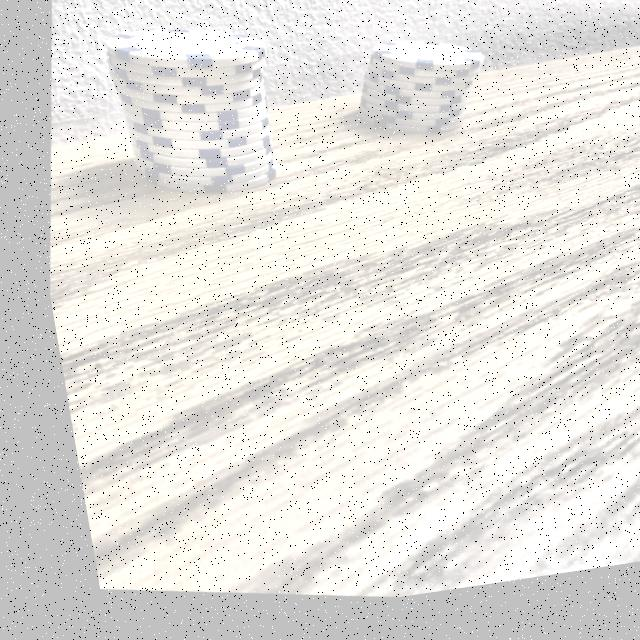Chip: (70, 0, 303, 237), (340, 25, 499, 177)
